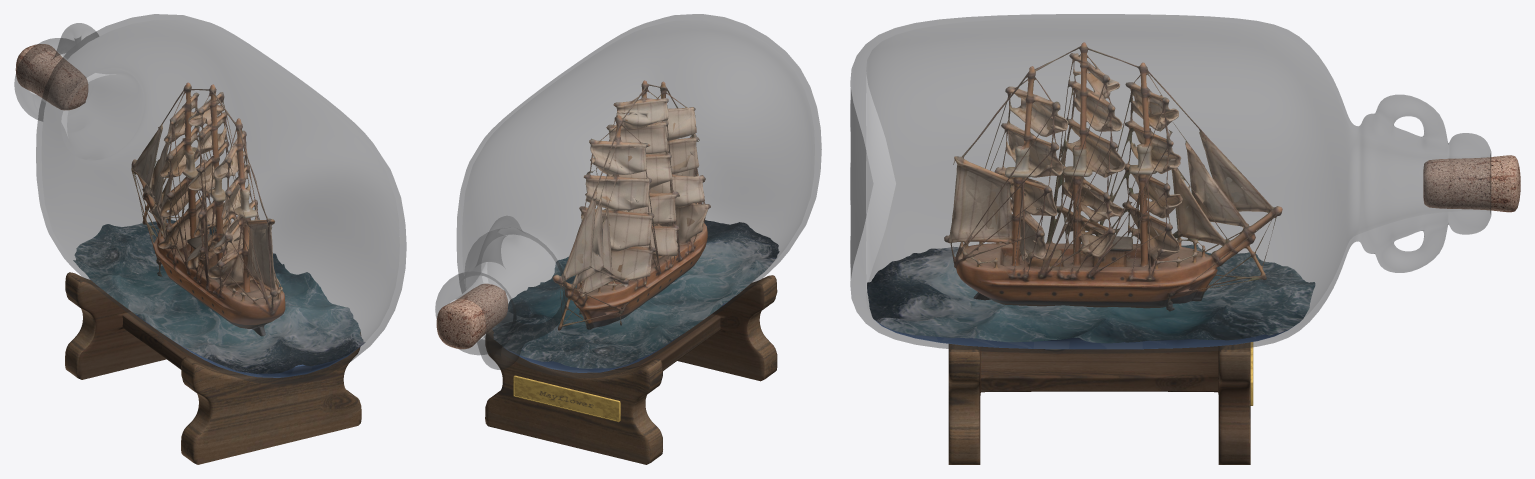
The picture shows the model from 3 angles, left to right: view 1: azimuth 30°, elevation 25°; view 2: azimuth 150°, elevation 25°; view 3: azimuth 270°, elevation 25°; orthographic projection. The views are drawn at different scales.
Visible parts, largest first — view 1: bottle_export, boat_export, support_export, sea, cap_export, bottle_export.001; view 2: bottle_export, boat_export, support_export, sea, cap_export, plaque_export; view 3: bottle_export, boat_export, sea, support_export, cap_export, bottle_export.001.
Part boxes in pixels (x1,y1,x2,y2): bottle_export: (14, 14, 406, 383); boat_export: (131, 82, 285, 336); support_export: (65, 272, 361, 464); sea: (73, 219, 365, 377); cap_export: (15, 44, 88, 110); bottle_export.001: (61, 72, 116, 138); bottle_export: (435, 14, 821, 378); boat_export: (552, 80, 710, 330); support_export: (485, 275, 777, 464); sea: (492, 220, 779, 372); cap_export: (436, 283, 508, 349); plaque_export: (513, 375, 620, 422); bottle_export: (850, 14, 1491, 353); boat_export: (944, 42, 1282, 311); sea: (867, 243, 1315, 349); support_export: (948, 342, 1250, 464); cap_export: (1423, 155, 1520, 212); bottle_export.001: (866, 72, 896, 295).
Bounding box in the file's own units: 1.4 × 2.14 × 3.35.
Materials: 8 (5 with a texture image).
